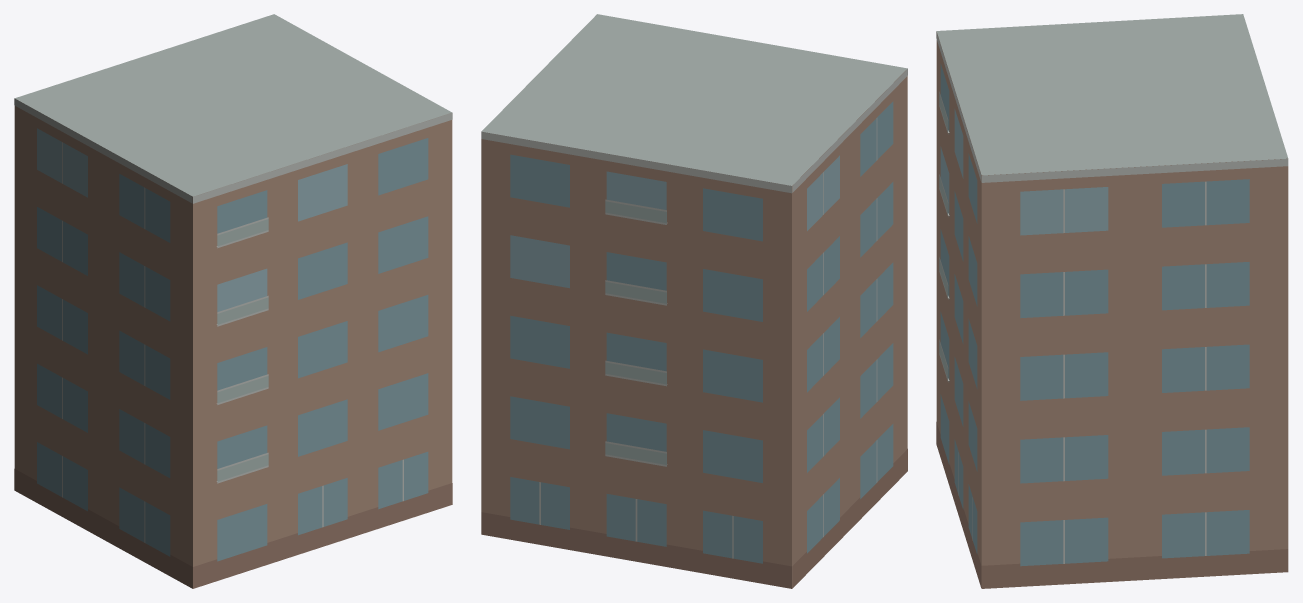
The model's file is survey-upis-33007556.glb.
3 views of the same model, side by side, from view 1: azimuth 30°, elevation 25°; view 2: azimuth 150°, elevation 25°; view 3: azimuth 270°, elevation 25° (orthographic). The views are drawn at different scales.
Parts seen in each view (by area): view 1: survey-upis-33007556.tmp; view 2: survey-upis-33007556.tmp; view 3: survey-upis-33007556.tmp.
Boxes of the visible parts, x1,y1,x2,y2 form: survey-upis-33007556.tmp: (14, 14, 452, 588); survey-upis-33007556.tmp: (481, 14, 907, 588); survey-upis-33007556.tmp: (936, 14, 1288, 588).
Bounding box in the file's own units: 11.23 × 13.4 × 10.35.
